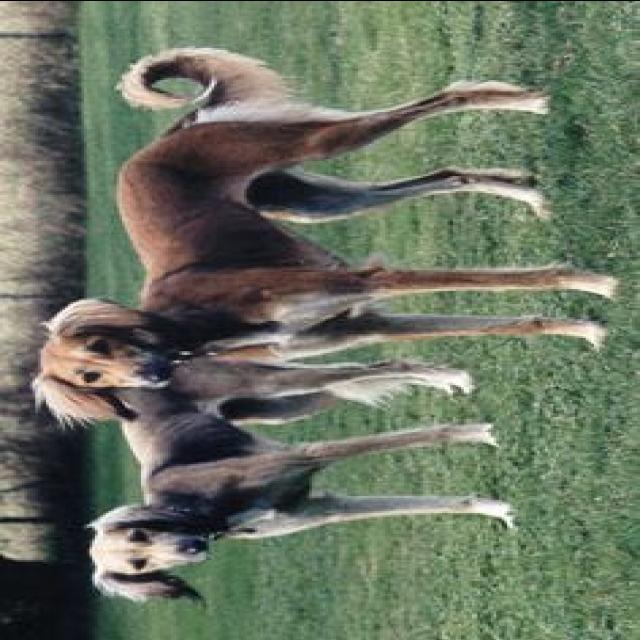saluki: (28, 47, 616, 425), (84, 352, 524, 610)
